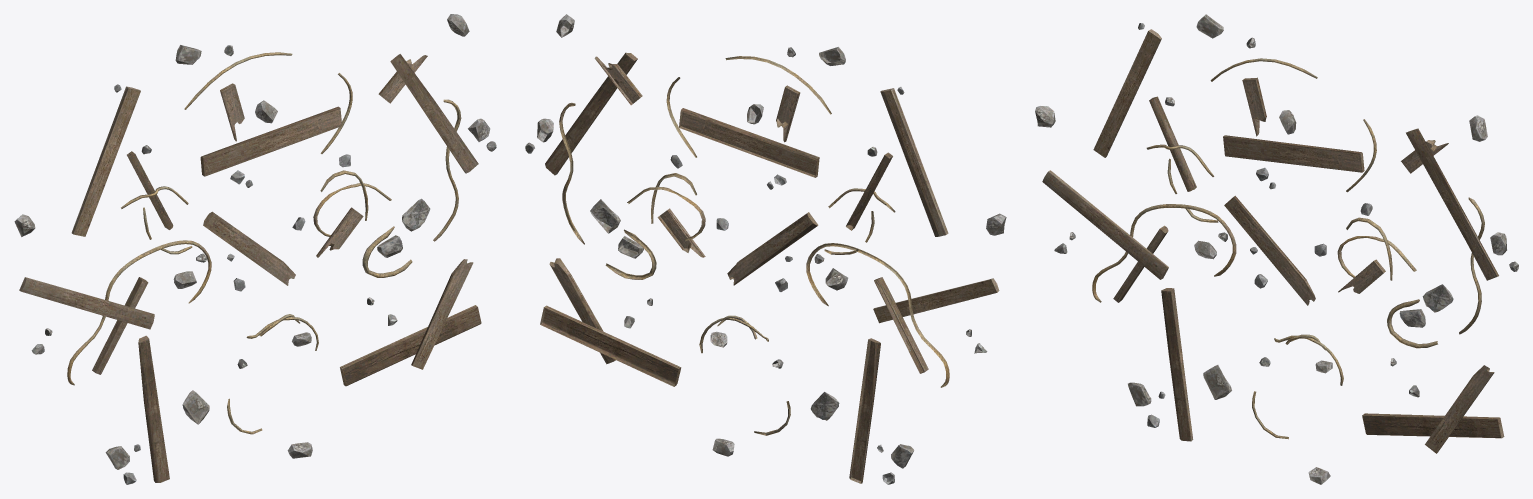
Rendered from hd_dec_UNI_012_DebirsGarbage_01.glb.
3 renders of one model, left to right at view 1: azimuth 30°, elevation 25°; view 2: azimuth 150°, elevation 25°; view 3: azimuth 330°, elevation 25°, orthographic.
Visible parts, largest first — view 1: set_0_group_0; view 2: set_0_group_0; view 3: set_0_group_0.
Part boxes in pixels (left/top/right/bottom): set_0_group_0: left=14, top=14, right=496, bottom=484; set_0_group_0: left=525, top=14, right=1006, bottom=484; set_0_group_0: left=1035, top=14, right=1518, bottom=484.
Bounding box in the file's own units: 6.16 × 5.38 × 0.229.
1 material, 1 textured.
